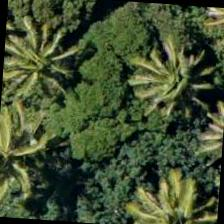Kelapa_Sawit: (104, 30, 200, 126), (0, 99, 83, 196), (1, 9, 76, 104), (131, 176, 220, 223)
